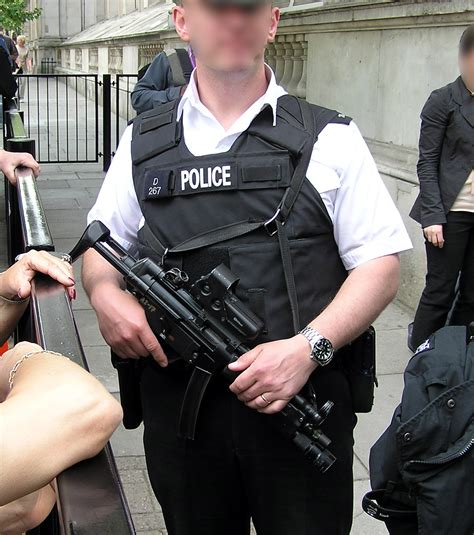gun: (63, 220, 338, 475)
